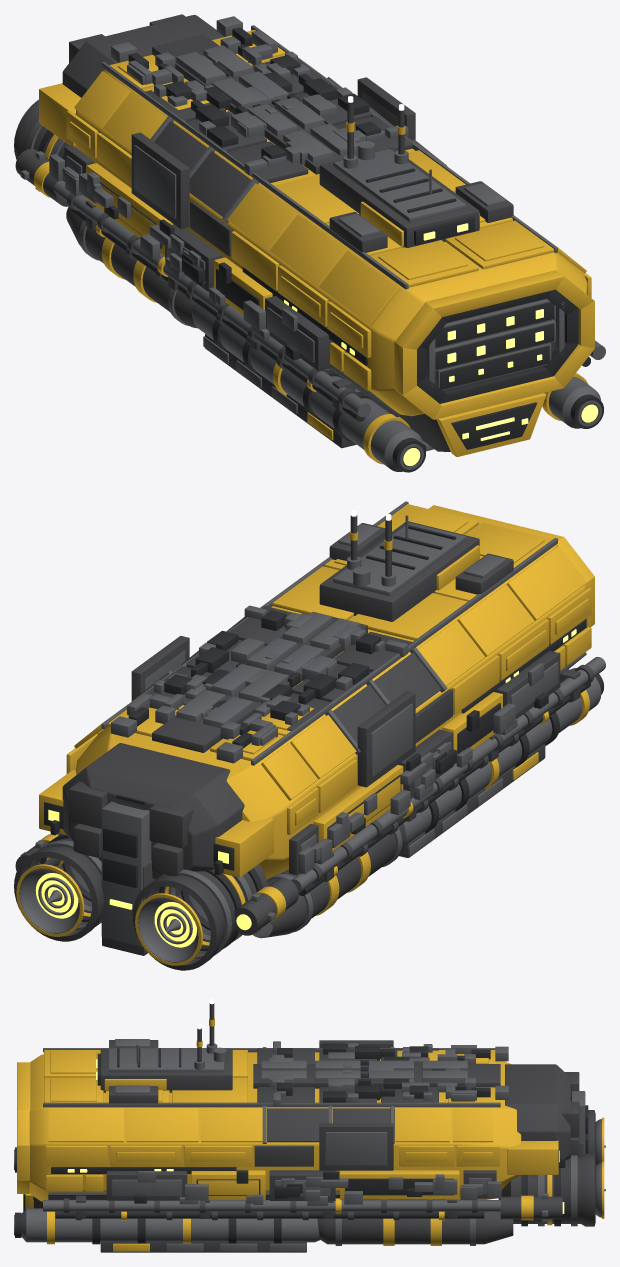
3 views of the same model, one above another, from view 1: azimuth 30°, elevation 25°; view 2: azimuth 150°, elevation 25°; view 3: azimuth 270°, elevation 25° (orthographic). The views are drawn at different scales.
Visible parts, largest first — view 1: TK07_Coque; view 2: TK07_Coque; view 3: TK07_Coque.
Boxes of the visible parts, x1,y1,x2,y2 form: TK07_Coque: (14, 14, 605, 472); TK07_Coque: (14, 501, 605, 970); TK07_Coque: (14, 999, 605, 1252).
Bounding box in the file's own units: 10.9 × 11.16 × 28.7.
